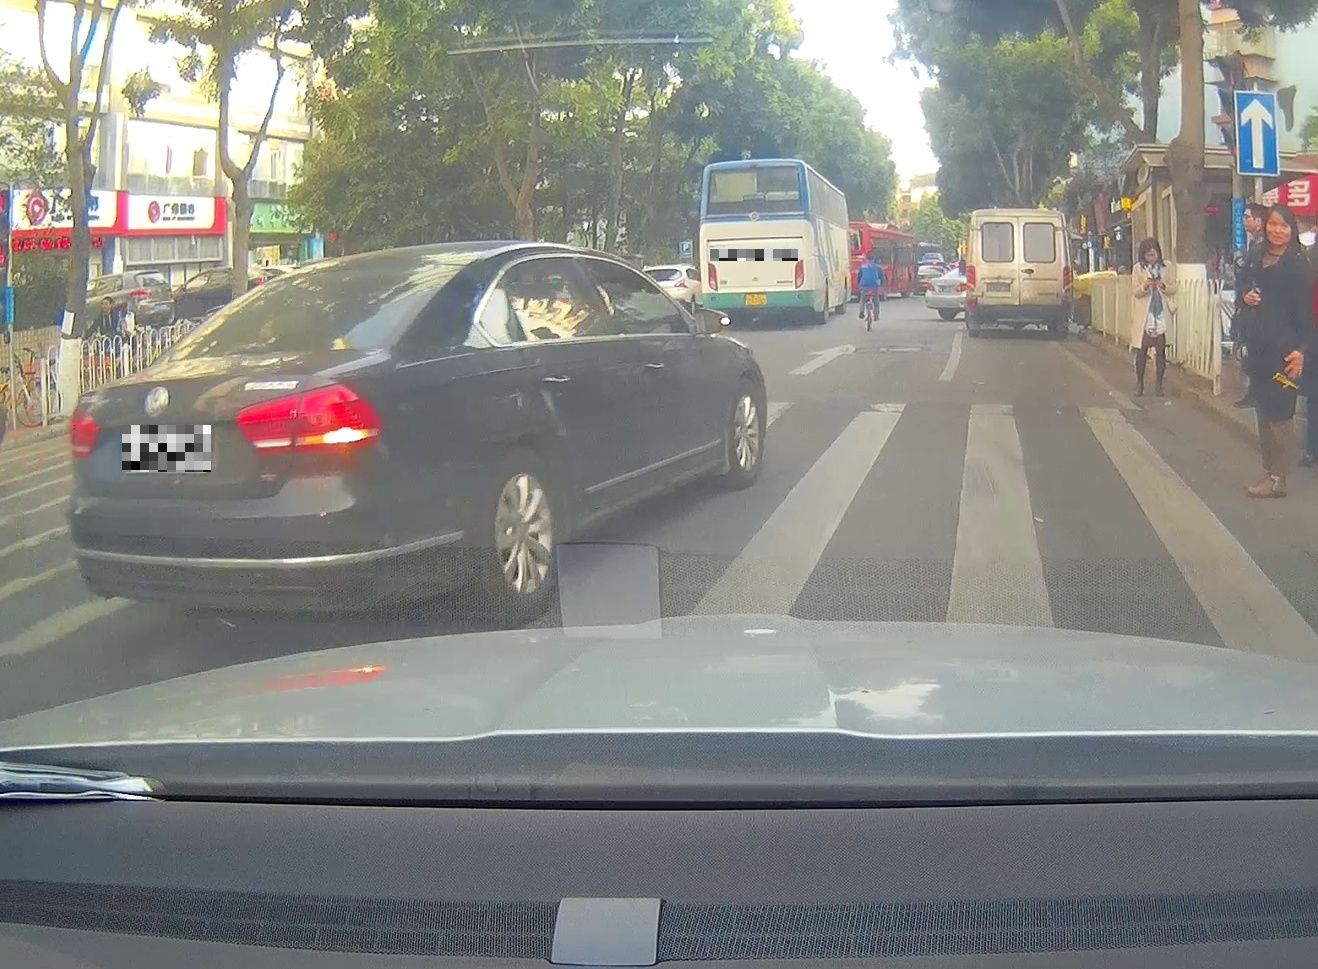L_light: (67, 406, 100, 458), (708, 262, 718, 292), (966, 265, 976, 293)
R_light: (237, 381, 384, 459), (794, 259, 804, 289), (1063, 264, 1072, 293)
T_light: (316, 263, 365, 273), (1010, 213, 1026, 219), (748, 163, 761, 169)
day-no: (699, 158, 811, 325), (965, 208, 1074, 338)
day-right: (65, 249, 448, 633)
plate_1: (122, 425, 211, 472)
plate_2: (710, 249, 798, 261)
